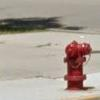Hydrant: (56, 32, 100, 91)
